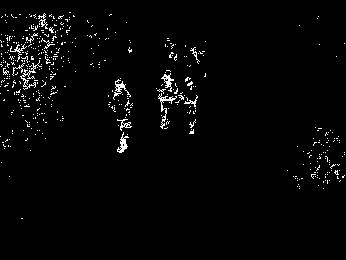person: (107, 78, 133, 155), (157, 68, 179, 132)
